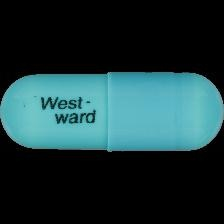0904-0428: (0, 0, 224, 224)
